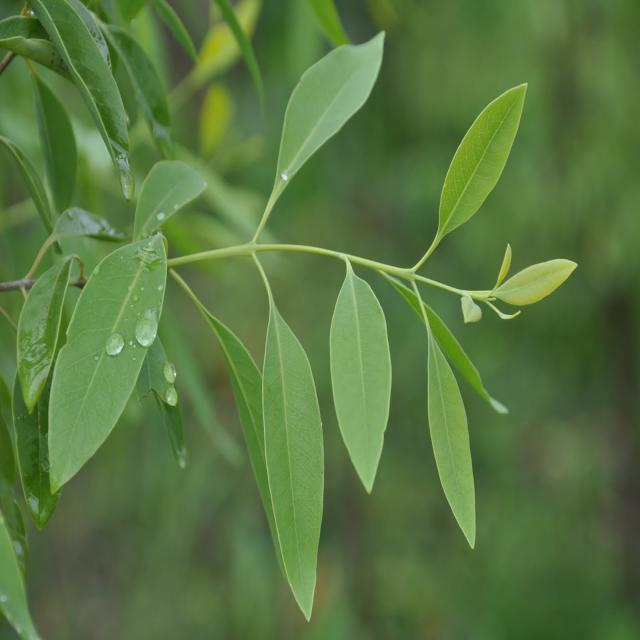Medicinal-Sandalwood: (0, 0, 581, 640)
